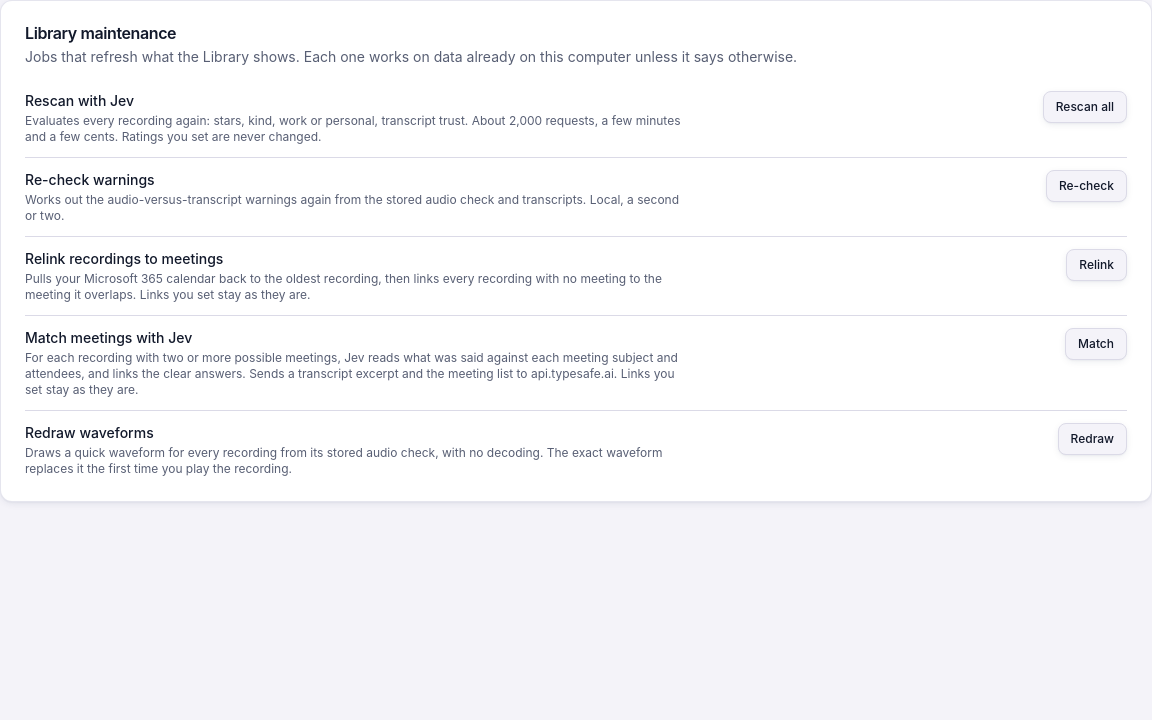
Test: LibraryMaintenanceCard › redraws waveforms and reports the counts
Click the button with aria-label "Redraw waveforms": [1092, 439] box [1058,423,1127,455]
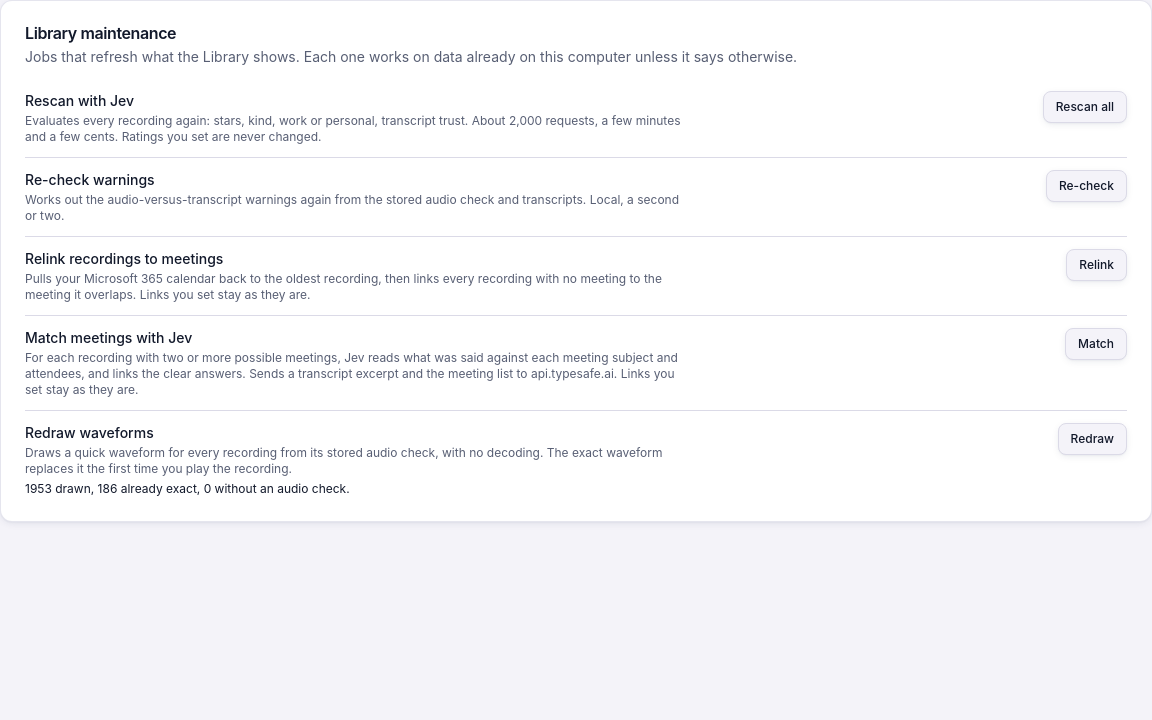
Now the text with test id "maintenance-result-waveforms" shows "1953 drawn, 186 already exact", box [25,481,350,496]
